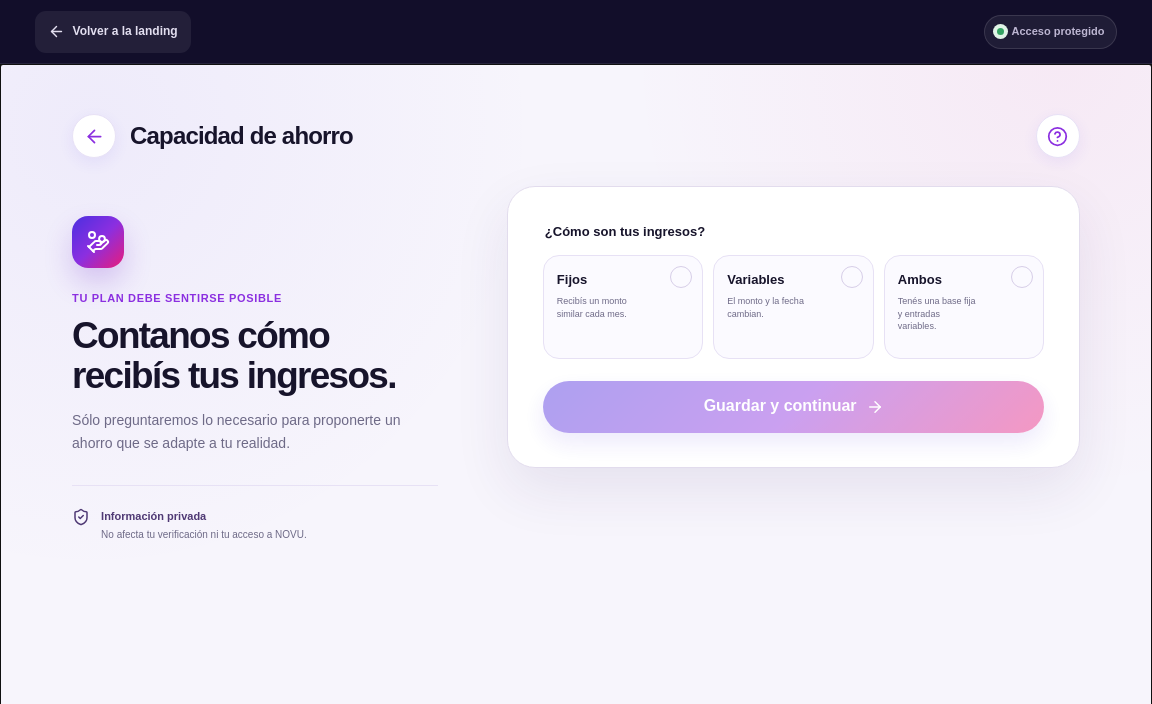
capacidad de ahorro condicional › solicita ingreso mensual únicamente para ingresos fijos
Click the button "Fijos Recibís un monto similar cada mes." at (623, 307), box [543, 255, 703, 359]
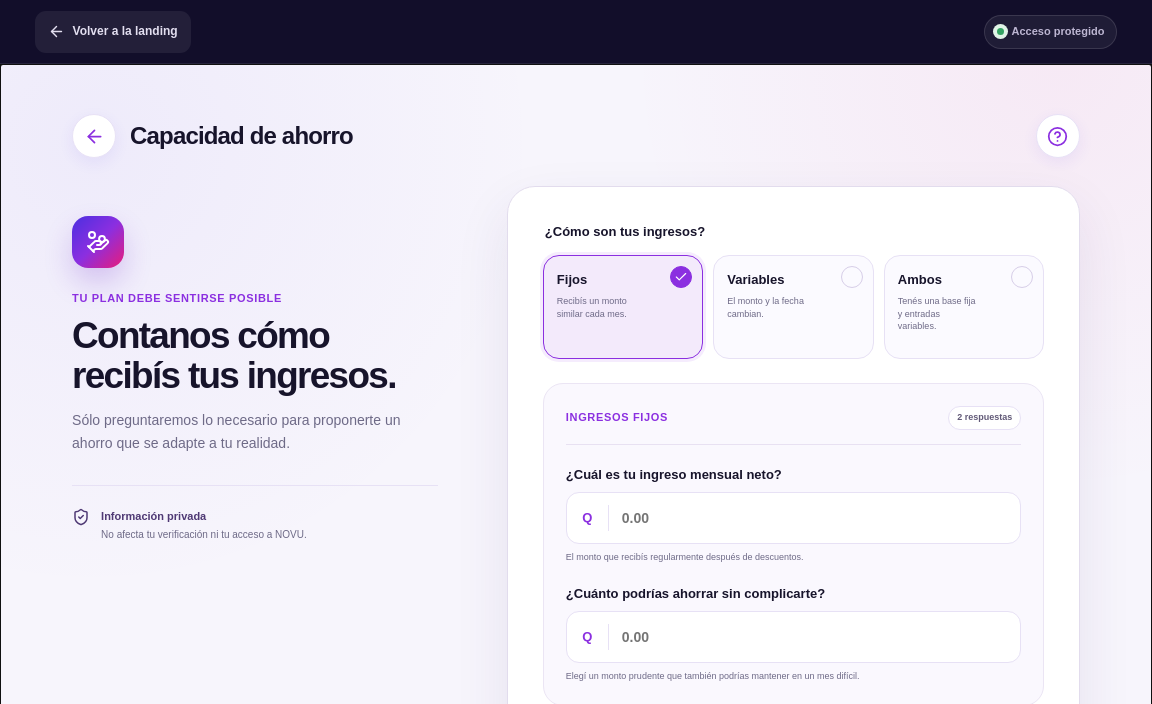
Expected: the text "¿Cada cuánto recibís ingresos variables?" is not shown
Now the number field labelled "¿Cuál es tu ingreso mensual neto?" is shown, box [609, 493, 1020, 543]
Click the button "Variables El monto y la fecha cambian." at (794, 307), box [713, 255, 874, 359]
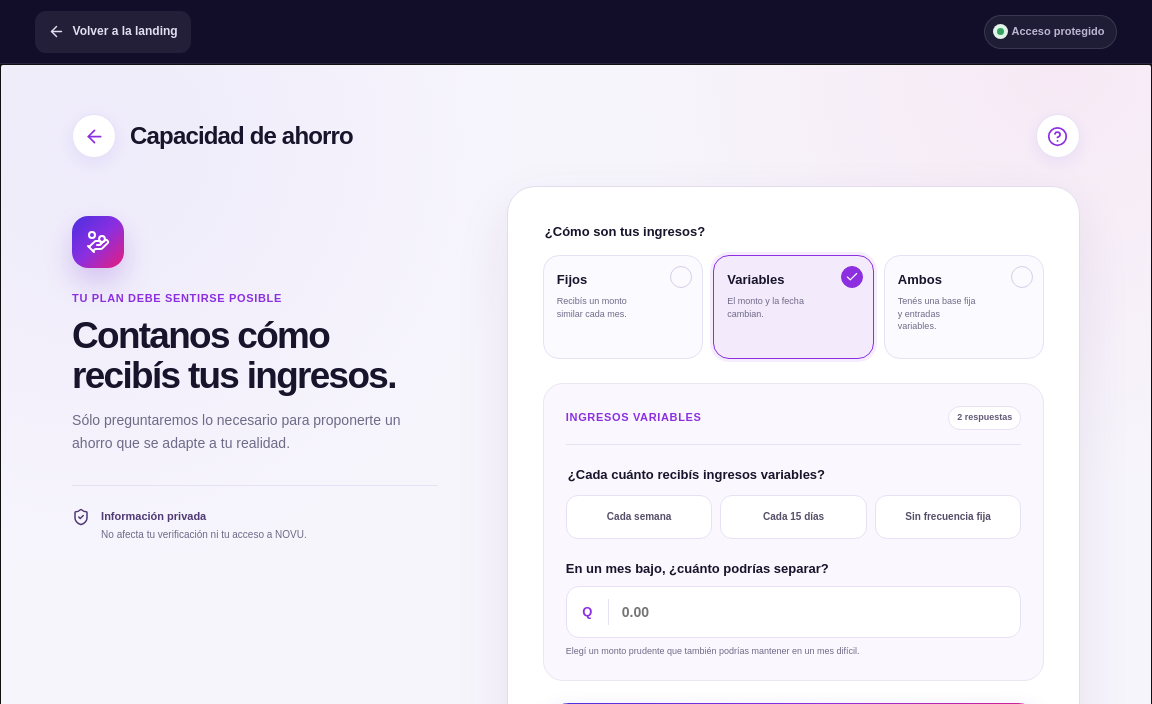
Now the number field labelled "En un mes bajo, ¿cuánto podrías separar?" is shown, box [609, 587, 1020, 637]
Now the label labelled "¿Cuál es tu ingreso mensual neto?" is gone
Now the text "¿Cada cuánto recibís ingresos variables?" is shown, box [566, 465, 827, 485]
